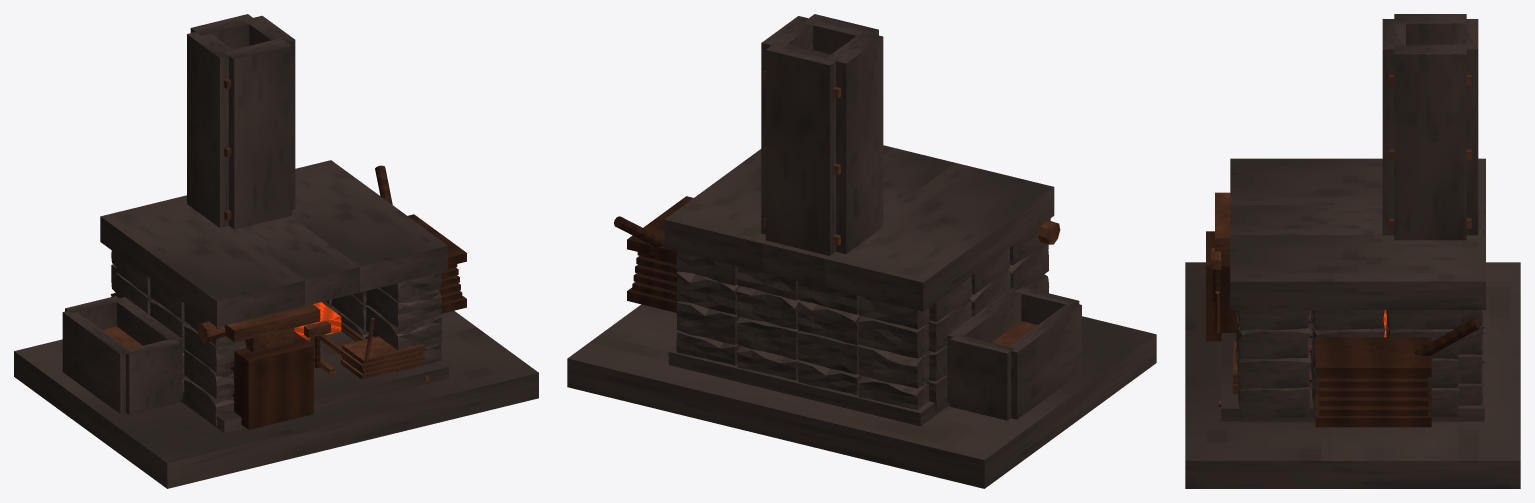
File: underworld-station-furnace-heart-forge.glb
3 views of the same model, side by side, from view 1: azimuth 30°, elevation 25°; view 2: azimuth 150°, elevation 25°; view 3: azimuth 270°, elevation 25° (orthographic). The views are drawn at different scales.
Parts seen in each view (by area): view 1: slag-foundation, hearth-roof-side--1, chimney-end--1, hearth-roof-side-1, chimney-side--1, anvil-stump, hearth-roof-front, hearth-floor, open-quench-trough-side--1, open-quench-trough-end--1, hearth-body-side-2-1-0, anvil-face (+17 smaller); view 2: slag-foundation, hearth-roof-side--1, chimney-end-1, chimney-side--1, hearth-roof-side-1, open-quench-trough-side--1, open-quench-trough-end-1, hearth-floor, hearth-roof-front, open-quench-trough-side-1, hearth-body-back-1-0, hearth-body-back-2-0 (+27 smaller); view 3: slag-foundation, hearth-roof-side-1, chimney-side-1, hearth-roof-side--1, bellows-board-0.94, hearth-roof-front, chimney-end--1, chimney-end-1, hearth-floor, hearth-body-side-1-1-0, hearth-body-side-2-1-0, hearth-body-side-0-1-0 (+19 smaller).
Boxes of the visible parts, x1,y1,x2,y2 form: slag-foundation: (14,311,538,488); hearth-roof-side--1: (100,195,304,327); chimney-end--1: (224,38,291,229); hearth-roof-side-1: (291,160,447,292); chimney-side--1: (187,32,237,227); anvil-stump: (230,331,313,429); hearth-roof-front: (235,216,359,305); hearth-floor: (180,331,448,433); open-quench-trough-side--1: (62,309,130,413); open-quench-trough-end--1: (126,339,180,414); hearth-body-side-2-1-0: (366,288,441,327); anvil-face: (224,304,320,342); slag-foundation: (567,304,1156,488); hearth-roof-side--1: (824,163,1054,311); chimney-end-1: (765,42,839,255); chimney-side--1: (826,31,883,253); hearth-roof-side-1: (664,145,893,272); open-quench-trough-side--1: (1008,302,1081,419); open-quench-trough-end-1: (950,334,1014,420); hearth-floor: (668,346,949,426); hearth-roof-front: (883,148,955,215); open-quench-trough-side-1: (947,288,1021,402); hearth-body-back-1-0: (858,345,930,388); hearth-body-back-2-0: (858,316,929,358); slag-foundation: (1185,262,1520,488); hearth-roof-side-1: (1230,235,1485,309); chimney-side-1: (1394,44,1466,240); hearth-roof-side--1: (1230,158,1485,205); bellows-board-0.94: (1315,337,1431,377); hearth-roof-front: (1230,205,1382,234); chimney-end--1: (1382,19,1405,235); chimney-end-1: (1455,19,1478,235); hearth-floor: (1221,310,1484,421); hearth-body-side-1-1-0: (1236,346,1311,389); hearth-body-side-2-1-0: (1236,310,1311,359); hearth-body-side-0-1-0: (1238,382,1309,418).
Bounding box in the file's own units: 3.64 × 3.04 × 2.6.
4 materials, 4 textured.
